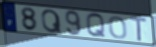8: (20, 7, 39, 32)
9: (64, 9, 83, 38)
O: (108, 15, 129, 40)
Q: (85, 12, 107, 39), (41, 9, 63, 35)
T: (130, 16, 149, 43)
